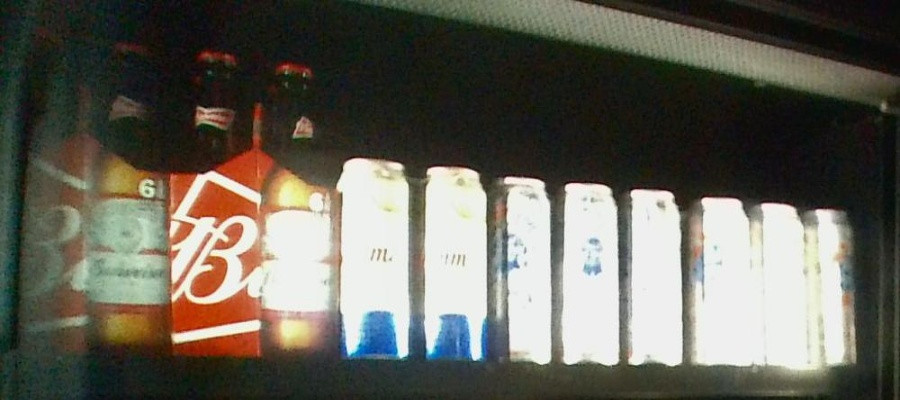bottle: (1, 40, 171, 354), (176, 47, 340, 359), (492, 171, 681, 364), (683, 190, 863, 370), (340, 156, 489, 362)
